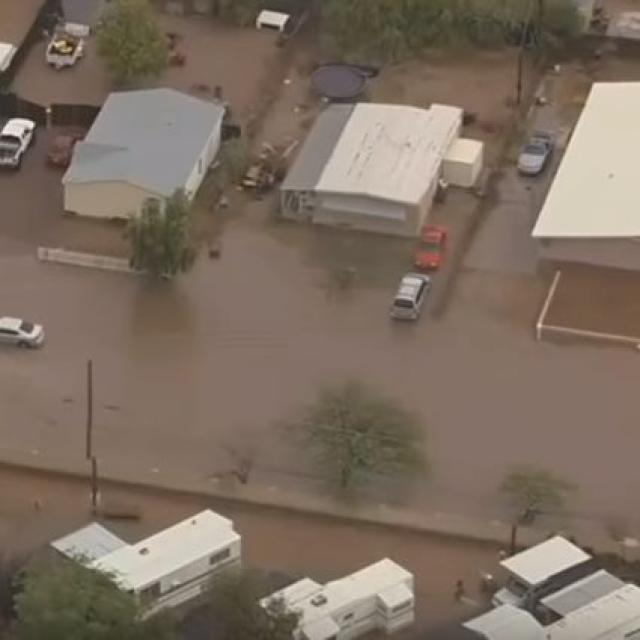flooded_areas: (0, 193, 638, 516)
